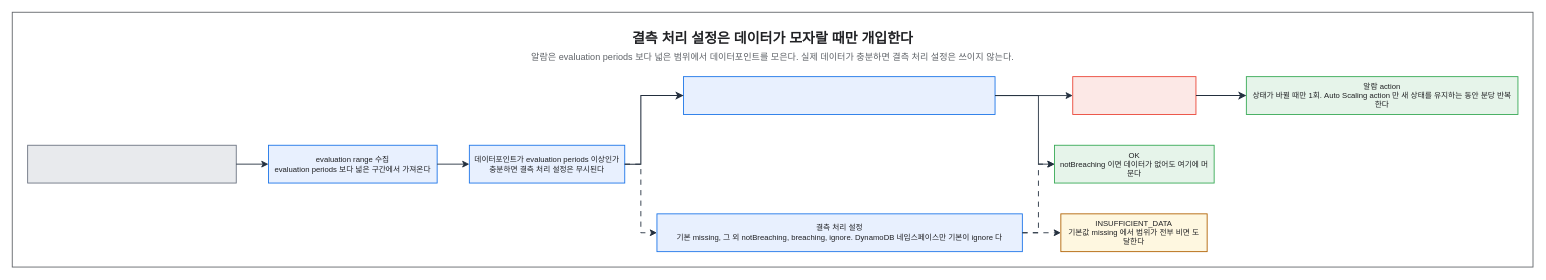
Some shapes in this 1546 by 280 pixel diagram are drawn without their labels. Here are the shapes that lost their labels. From the top down, the centre of each, then its label:
At point (839, 95): "M out of N 판정 가장 오래된 breaching 이 M 만큼 오래됐고 이후가 breaching 이나 missing 뿐이면 ALARM 이다".
At point (1134, 95): "ALARM 임계를 넘었다고 판정한 상태".
At point (131, 163): "메트릭 데이터포인트 period 는 고해상도 알람이면 10초 또는 30초, 그 외에는 60의 배수".
